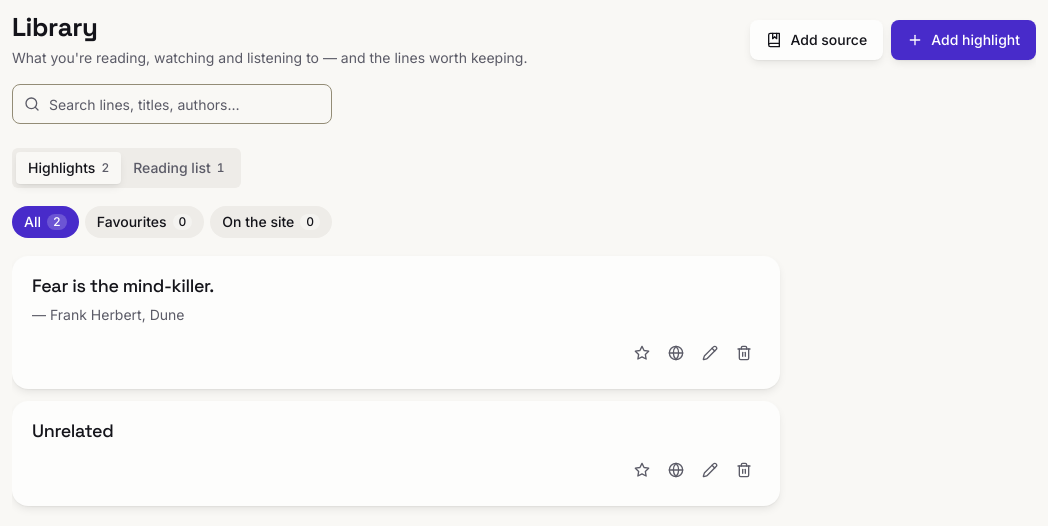
Test case: LibraryPage — highlights › finds a line by its source's title
The width and height of the screenshot is (1048, 526).
Type "dune" into the field with placeholder "Search lines, titles, authors…".
click(172, 104); type("dune")  # box 12,84 -> 332,124
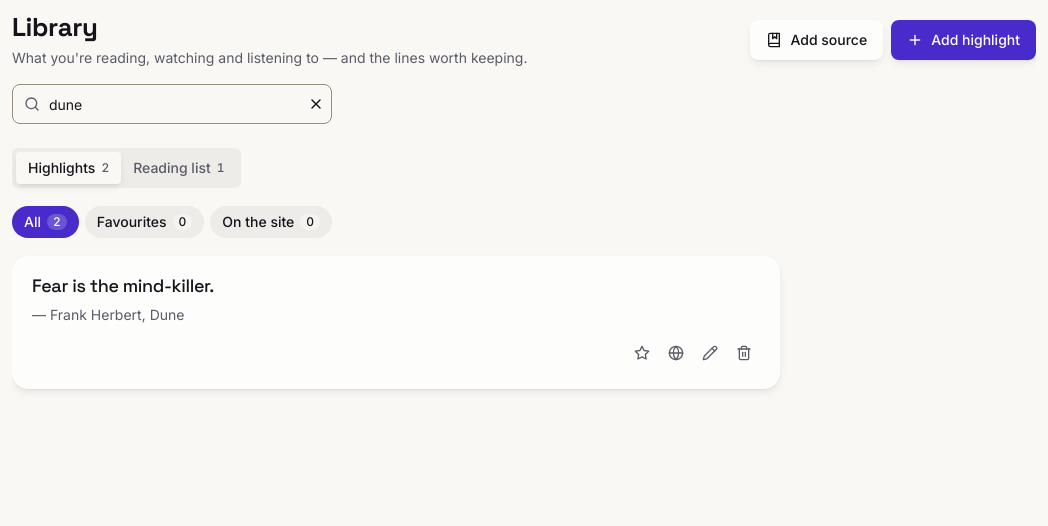
Expected: the text "Fear is the mind-killer." is shown, 32,274 -> 214,297
Now the text "Unrelated" is gone
